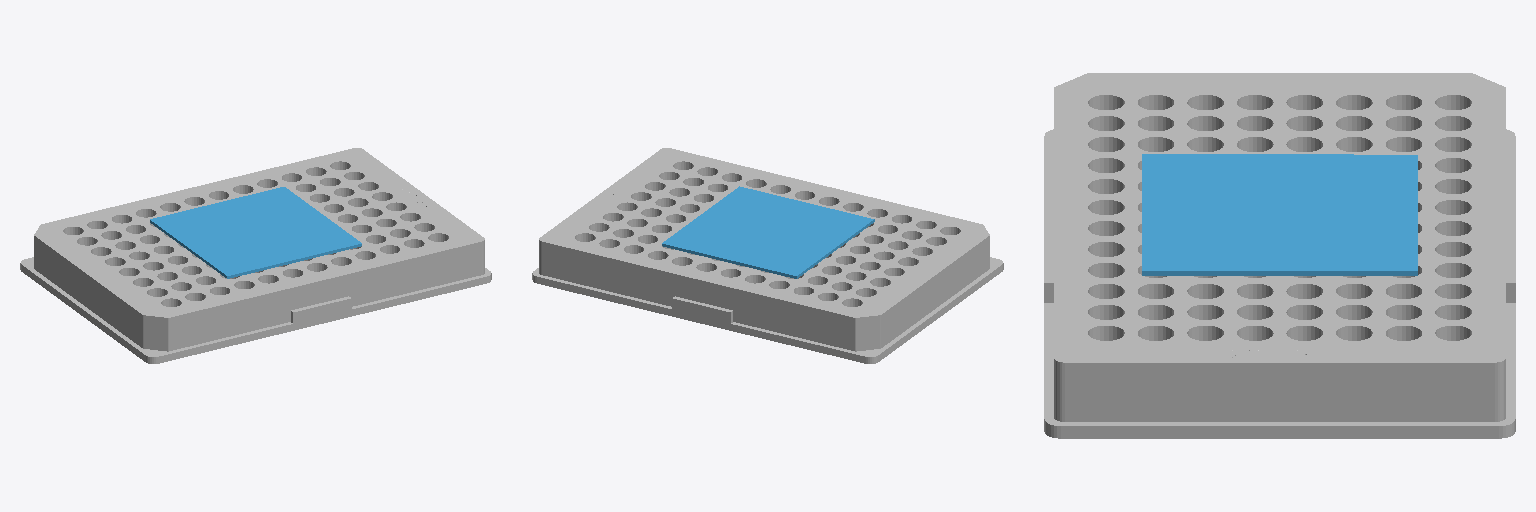
The robot description file, URDF, robot "microplate":
<?xml version="1.0"?>
<robot name="microplate">
  <link name="microplate_link">
    <visual>
      <origin xyz="0 0 0" rpy="0 0 0"/>
      <geometry>
        <mesh filename="package://closed_loop_dalsa_description/meshes/Greiner_microplate.stl" scale="1 1 1"/>
      </geometry>
      <material name="white">
        <color rgba="0.8 0.8 0.8 1"/>
      </material>
    </visual>
    <collision>
      <origin xyz="0 0 0.0075" rpy="0 0 0"/>
      <geometry>
        <box size="0.127 0.085 0.015"/> 
      </geometry>
    </collision>
    <inertial>
      <origin xyz="0 0 0" rpy="0 0 0"/>
      <mass value="0.1"/> <inertia ixx="0.0001" ixy="0.0" ixz="0.0" iyy="0.0001" iyz="0.0" izz="0.0001"/>
    </inertial>
  </link>

  <link name="aruco">
    <visual>
      <origin xyz="0 0 0" rpy="1.57 0 0"/>
      <geometry>
        <mesh filename="package://closed_loop_dalsa_description/meshes/aruco-42.obj" scale="1 1 1"/>
      </geometry>
    </visual>
    
    <collision>
      <origin xyz="0 0 0" rpy="0 0 0"/>
      <geometry>
        <box size="0.04 0.04 0.001"/> 
      </geometry>
    </collision>
    <inertial>
      <origin xyz="0 0 0" rpy="0 0 0"/>
      <mass value="0.01"/> <inertia ixx="0.0001" ixy="0.0" ixz="0.0" iyy="0.0001" iyz="0.0" izz="0.0001"/>
    </inertial>
  </link>

  <joint name="microplate_to_aruco" type="fixed">
    <parent link="microplate_link"/>
    <child link="aruco"/>
    <origin xyz="0 0 0.015" rpy="0 0 0"/>
  </joint>

</robot>

--- What the picture shows (computed from the rendered views, not written in the file) ---
Views: 3 orthographic renders of the robot side by side, from view 1: azimuth 30°, elevation 25°; view 2: azimuth 150°, elevation 25°; view 3: azimuth 270°, elevation 25°.
Model microplate with 2 links and 1 joints (1 fixed), rooted at microplate_link, posed every joint at zero.
Visible links, largest first — view 1: microplate_link, aruco; view 2: microplate_link, aruco; view 3: microplate_link, aruco.
Boxes of the visible links, x1,y1,x2,y2 form: microplate_link: (20, 148, 491, 363); aruco: (150, 187, 361, 278); microplate_link: (532, 148, 1003, 363); aruco: (662, 186, 874, 278); microplate_link: (1044, 73, 1515, 438); aruco: (1142, 154, 1417, 275).
Bounding box of the posed robot: 0.1278 × 0.0855 × 0.0155 m (x, y, z).
2 mesh visuals loaded from 2 distinct referenced files (1 binary STL, 1 OBJ).
